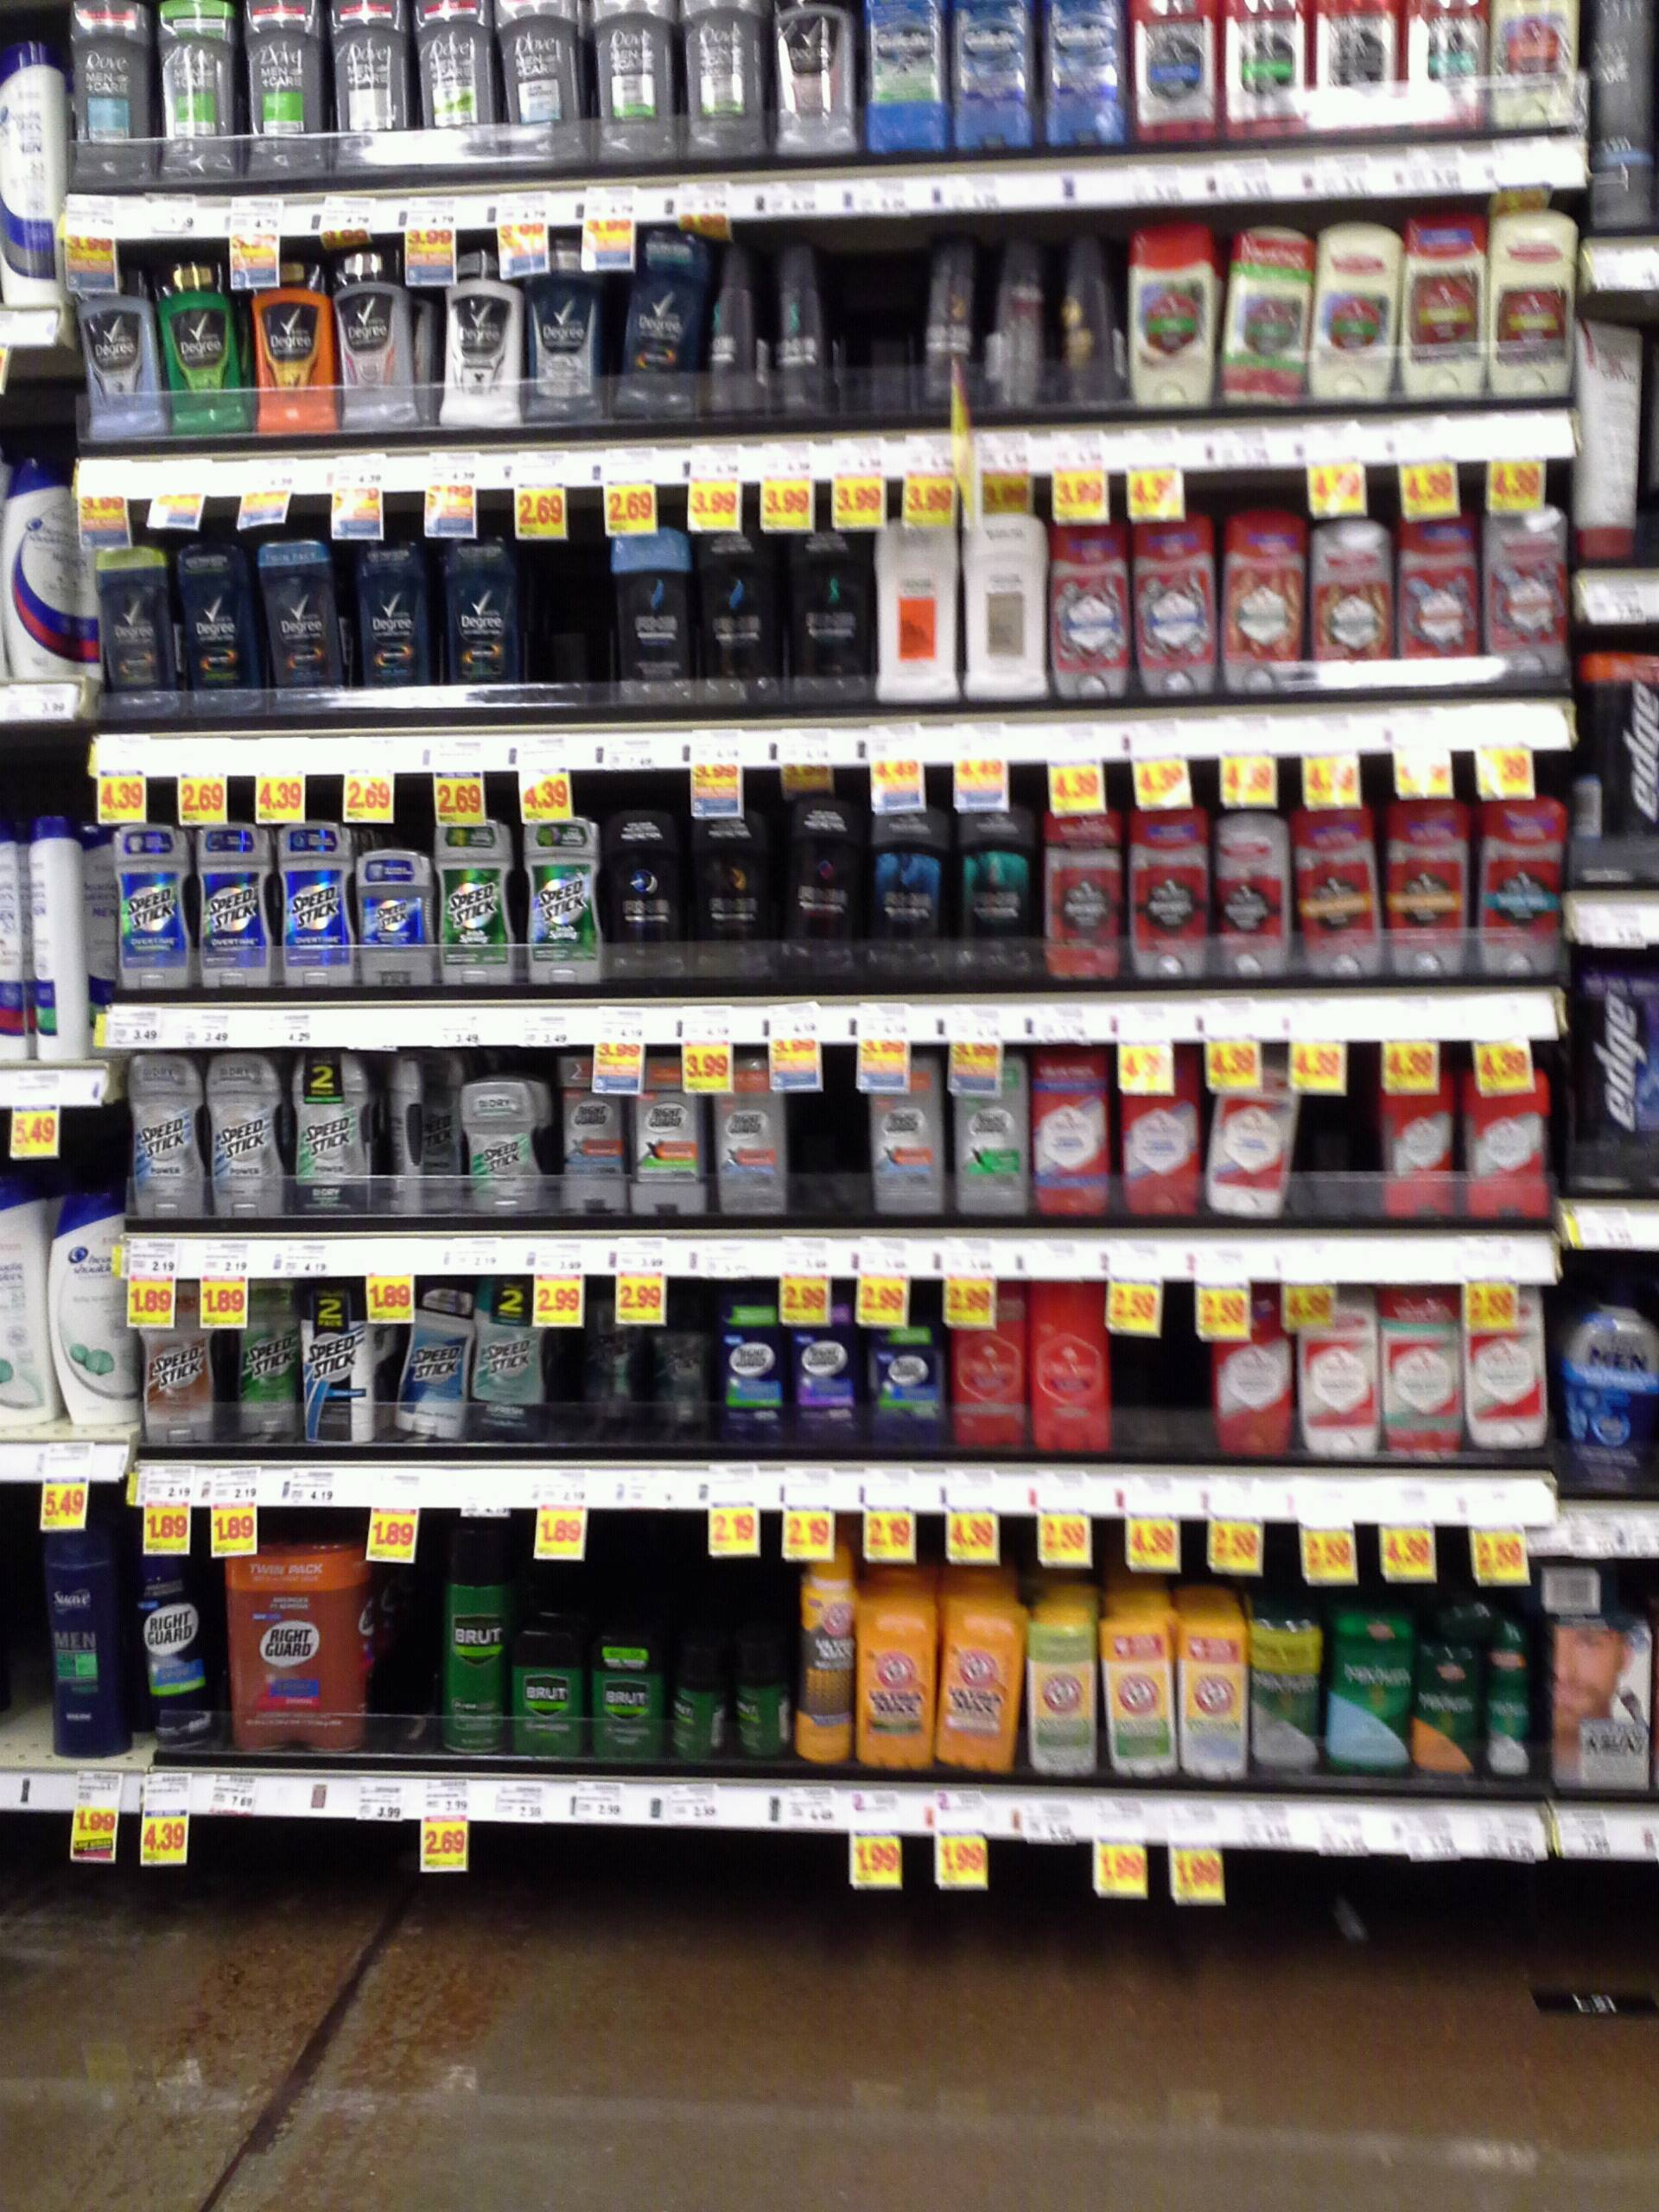Out-of-stock: (511, 488, 612, 725)
